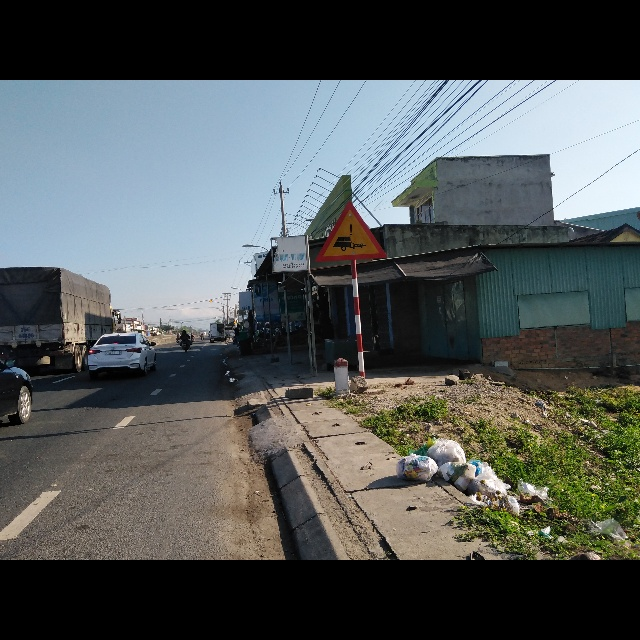Đoạn đường hay xảy ra tai nạn: (315, 203, 388, 263)
